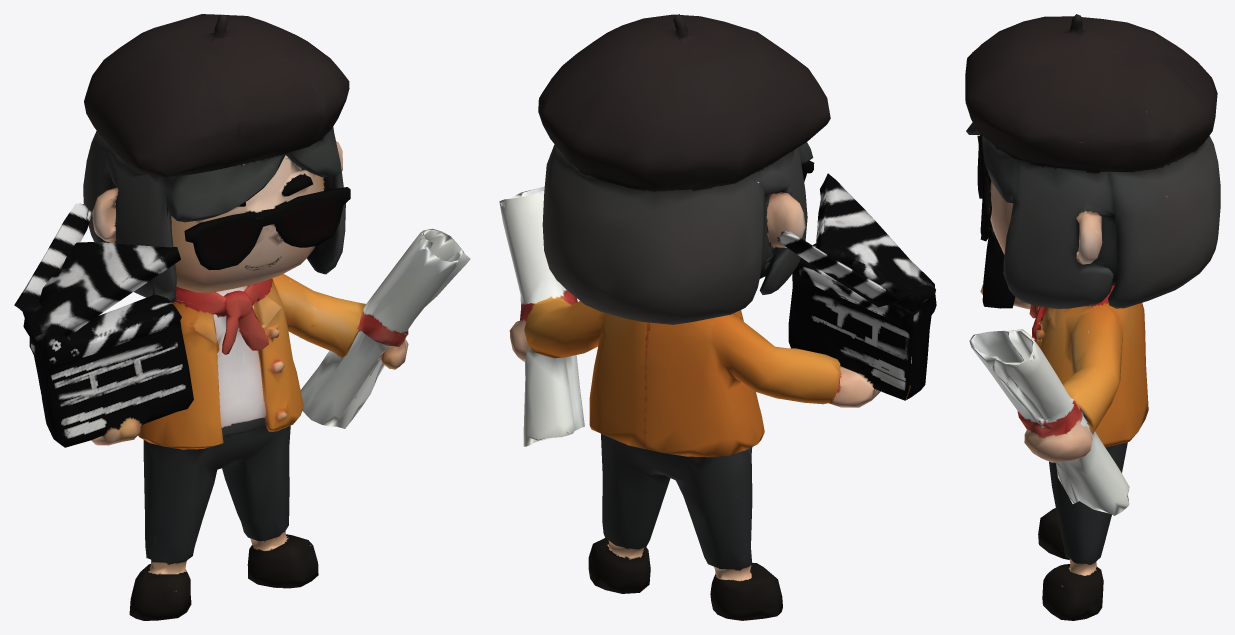
Rendered from directora-web.glb.
The picture shows the model from 3 angles, left to right: view 1: azimuth 30°, elevation 25°; view 2: azimuth 150°, elevation 25°; view 3: azimuth 270°, elevation 25°; orthographic projection. The views are drawn at different scales.
Size of the model in its own units: 0.7683 by 0.9907 by 0.4058.
1 material, 1 textured.
